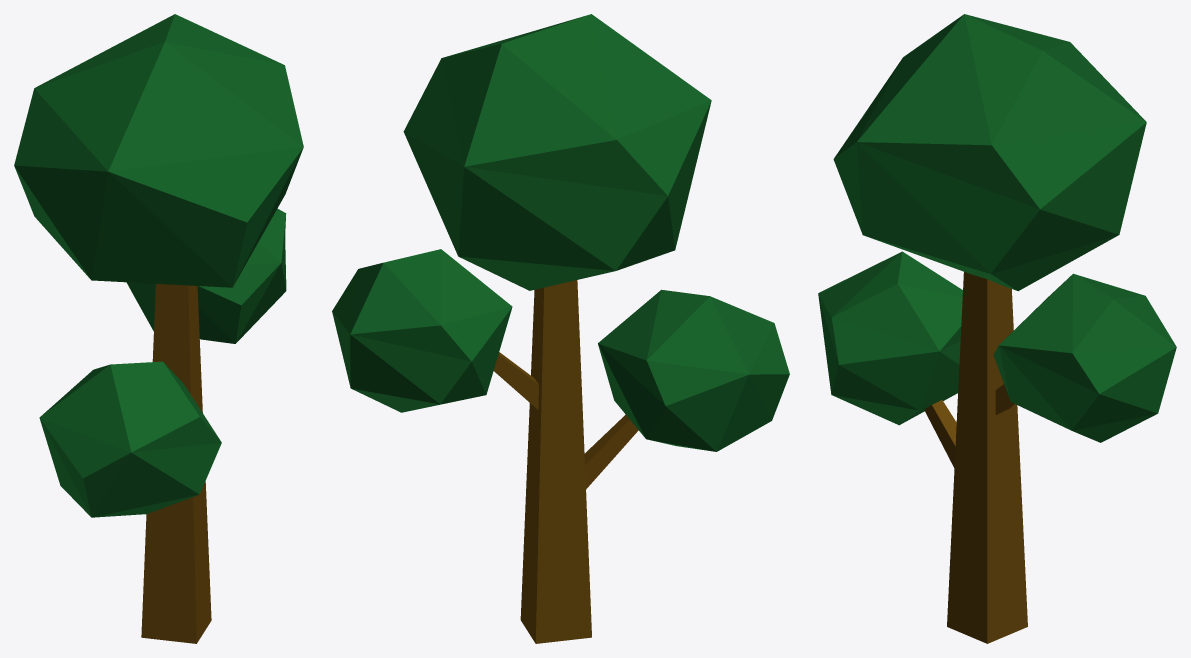
File: tree_1.fbx
The picture shows the model from 3 angles, left to right: view 1: azimuth 30°, elevation 25°; view 2: azimuth 150°, elevation 25°; view 3: azimuth 270°, elevation 25°; orthographic projection.
Parts seen in each view (by area): view 1: tree_1; view 2: tree_1; view 3: tree_1.
Part boxes in pixels (x1,y1,x2,y2): tree_1: [14, 14, 303, 643]; tree_1: [332, 14, 789, 643]; tree_1: [818, 14, 1176, 643].
Bounding box in the file's own units: 1.93 × 3.37 × 1.82.
